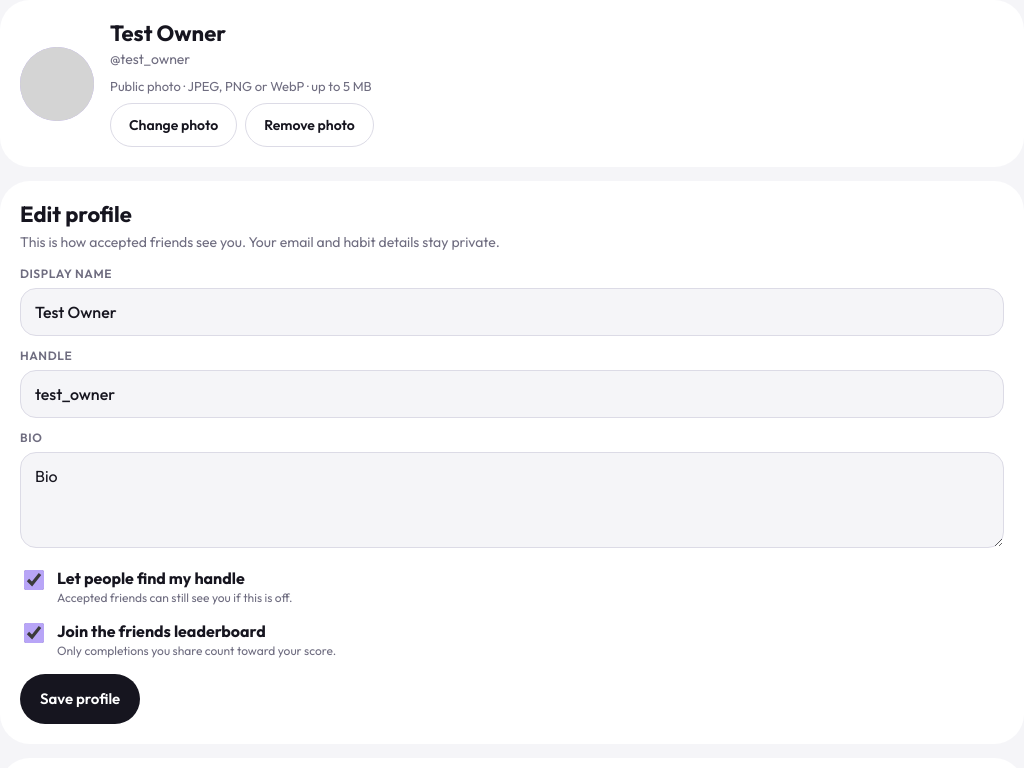
profile avatar controls › keeps the image and exposes metadata-removal failures
The image size is (1024, 768).
Expected: the element named "Profile photo" is shown, [110,77,374,147]
Click the button "Remove photo" at (309, 125), box [245,103,374,147]
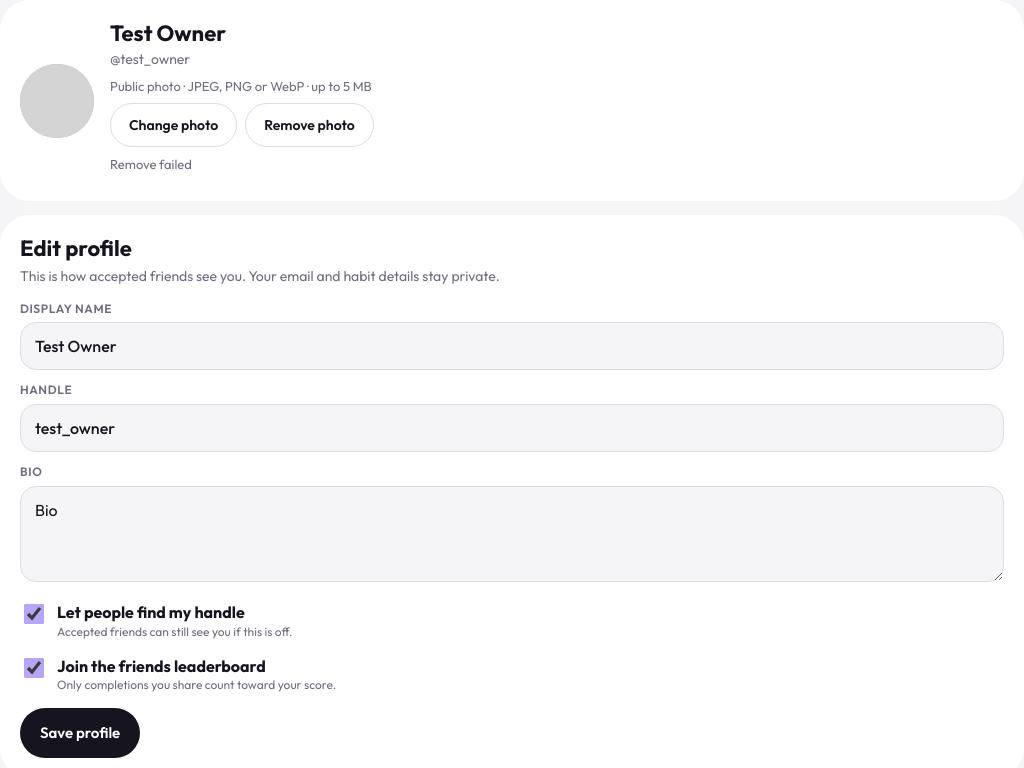
Now the text "Remove failed" is shown, box [110,156,192,172]
